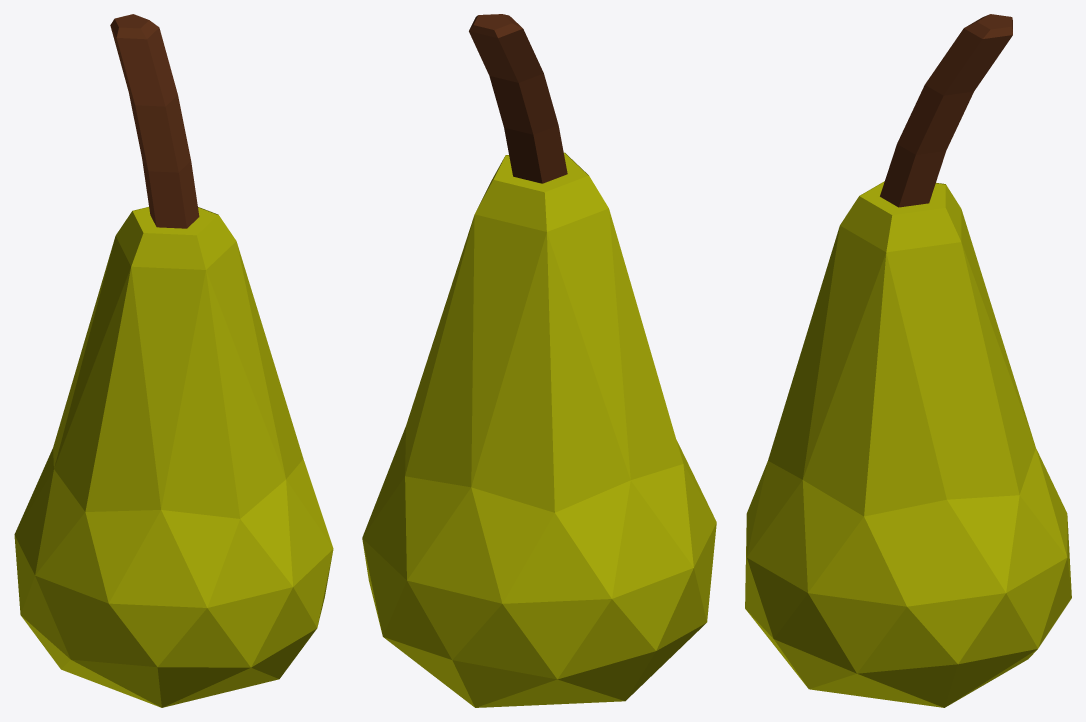
Rendered from Pear.fbx.
3 views of the same model, side by side, from view 1: azimuth 30°, elevation 25°; view 2: azimuth 150°, elevation 25°; view 3: azimuth 270°, elevation 25° (orthographic). The views are drawn at different scales.
Parts seen in each view (by area): view 1: Icosphere.003; view 2: Icosphere.003; view 3: Icosphere.003.
Part boxes in pixels (left/top/right/bottom): Icosphere.003: left=14, top=14, right=333, bottom=707; Icosphere.003: left=362, top=14, right=716, bottom=707; Icosphere.003: left=745, top=14, right=1071, bottom=707.
Size of the model in its own units: 23.01 by 50.35 by 22.31.
